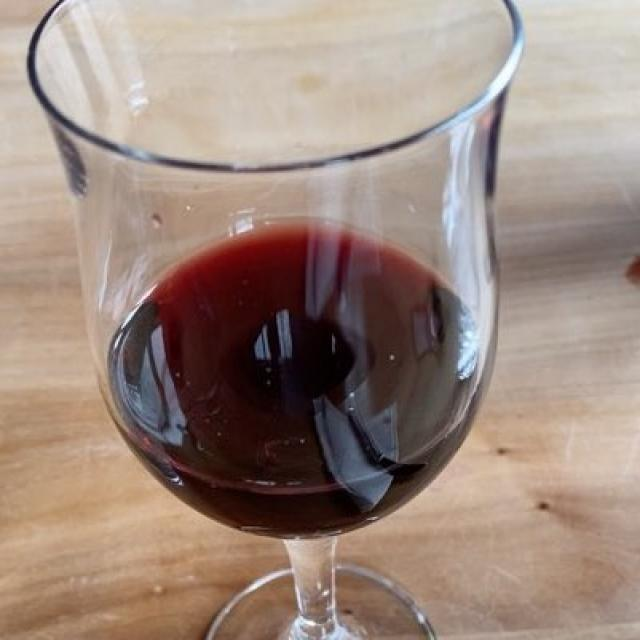wine: (84, 214, 497, 546)
